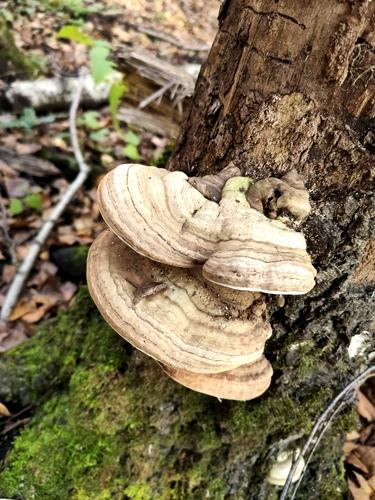Ganoderma - Fruit Body: (93, 158, 323, 301), (82, 296, 276, 406)
